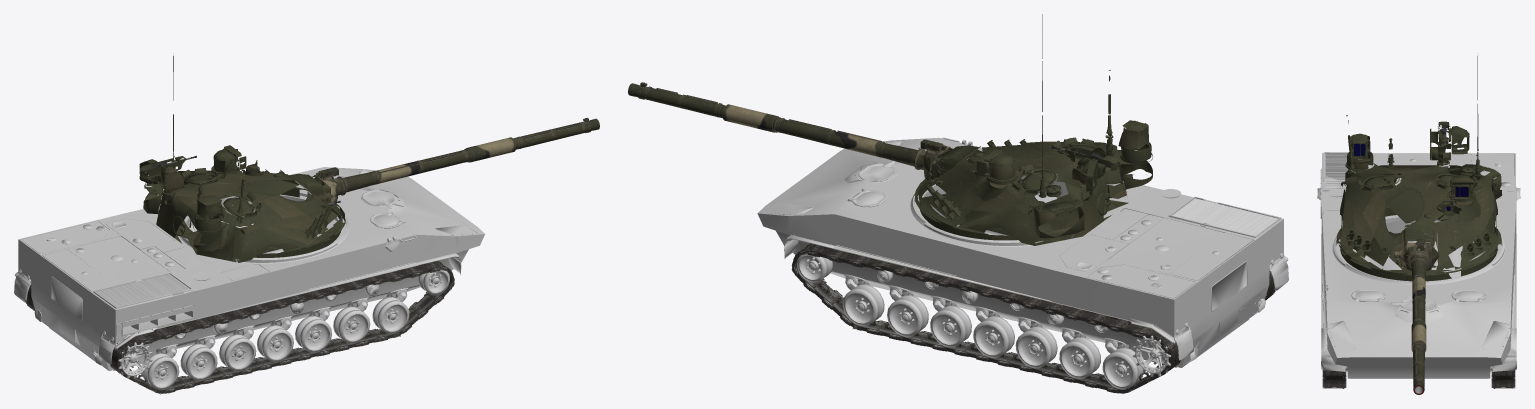
The model's file is sprut.fbx.
3 views of the same model, side by side, from view 1: azimuth 30°, elevation 25°; view 2: azimuth 150°, elevation 25°; view 3: azimuth 270°, elevation 25° (orthographic). The views are drawn at different scales.
Parts seen in each view (by area): view 1: chassis, tourelle_01, hatch.001, chenille_droite_01, canon_01, sideskirtl, decort2, Roue_D7, Roue_D6, Roue_D3, Roue_D2, Roue_D5 (+9 smaller); view 2: chassis, tourelle_01, hatch.001, chenille_gauche_01, canon_01, decort2, sideskirtl, Roue_G4, Roue_G6, Roue_G2, Roue_G5, Roue_G7 (+9 smaller); view 3: chassis, tourelle_01, hatch.001, canon_01, sideskirtl, decort2, axe_canon_01, axe_canon_02, periscope, chenille_droite_01, chenille_gauche_01, tourelle_02.
Boxes of the visible parts, x1,y1,x2,y2 form: chassis: [18, 167, 484, 370]; tourelle_01: [156, 145, 345, 262]; hatch.001: [21, 169, 476, 365]; chenille_droite_01: [110, 261, 454, 394]; canon_01: [343, 117, 599, 192]; sideskirtl: [14, 253, 461, 363]; decort2: [143, 172, 254, 235]; Roue_D7: [180, 343, 217, 380]; Roue_D6: [219, 334, 256, 371]; Roue_D3: [333, 306, 370, 343]; Roue_D2: [372, 296, 409, 333]; Roue_D5: [257, 325, 293, 362]; chassis: [757, 137, 1283, 367]; tourelle_01: [914, 70, 1152, 245]; hatch.001: [766, 140, 1283, 361]; chenille_gauche_01: [791, 243, 1180, 393]; canon_01: [628, 82, 917, 166]; decort2: [1019, 143, 1111, 237]; sideskirtl: [784, 234, 1288, 360]; Roue_G4: [930, 305, 971, 347]; Roue_G6: [1015, 326, 1057, 368]; Roue_G2: [842, 284, 884, 326]; Roue_G5: [973, 316, 1014, 357]; Roue_G7: [1059, 337, 1100, 378]; chassis: [1320, 153, 1516, 378]; tourelle_01: [1336, 115, 1501, 281]; hatch.001: [1322, 152, 1514, 352]; canon_01: [1411, 257, 1426, 394]; sideskirtl: [1317, 187, 1520, 371]; decort2: [1364, 164, 1502, 199]; axe_canon_01: [1394, 235, 1439, 270]; axe_canon_02: [1437, 121, 1469, 154]; periscope: [1347, 133, 1372, 163]; chenille_droite_01: [1322, 369, 1346, 388]; chenille_gauche_01: [1491, 369, 1515, 388]; tourelle_02: [1430, 128, 1450, 160].
Size of the model in its own units: 10.01 by 3.29 by 5.41.
